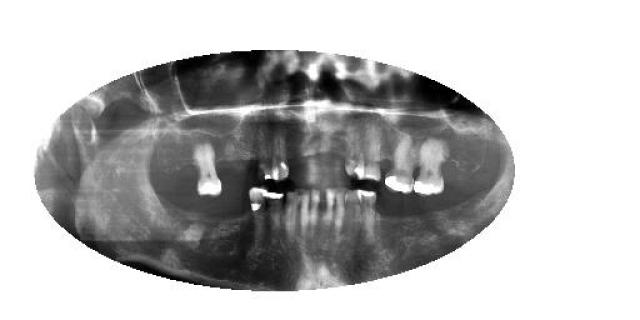Fillings: (382, 129, 416, 196), (413, 136, 448, 198), (192, 142, 222, 198), (264, 192, 285, 252), (358, 189, 378, 249)
